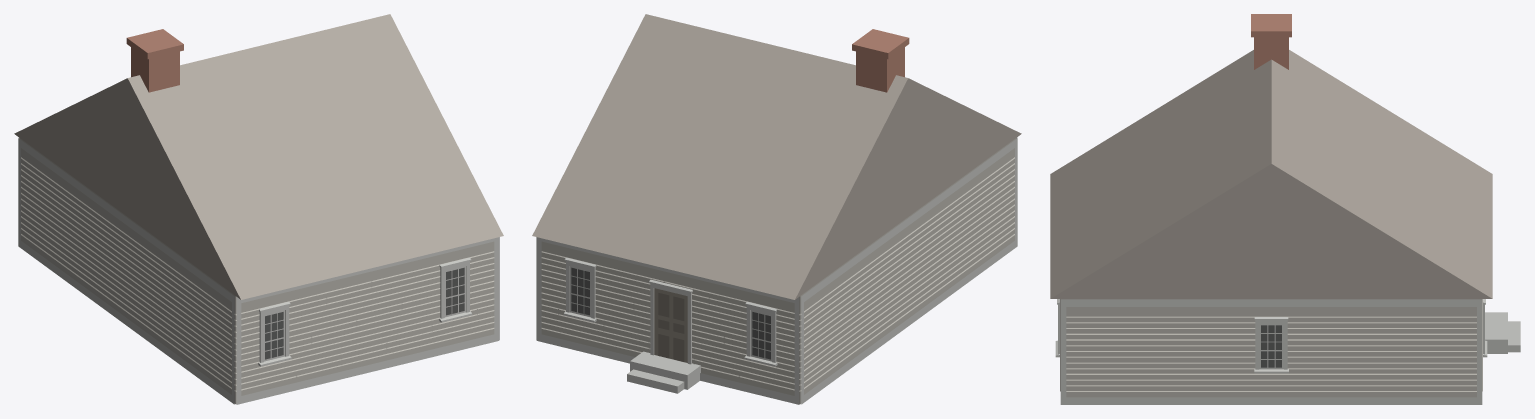
Rendered from recon_1835_north_d5_026__inferred_1835.glb.
3 renders of one model, left to right at view 1: azimuth 30°, elevation 25°; view 2: azimuth 150°, elevation 25°; view 3: azimuth 270°, elevation 25°, orthographic. The views are drawn at different scales.
Parts seen in each view (by area): view 1: recon_1835_north_d5_026__inferred_1835; view 2: recon_1835_north_d5_026__inferred_1835; view 3: recon_1835_north_d5_026__inferred_1835.
Part boxes in pixels (x1,y1,x2,y2): recon_1835_north_d5_026__inferred_1835: (14,14,503,404); recon_1835_north_d5_026__inferred_1835: (532,14,1021,404); recon_1835_north_d5_026__inferred_1835: (1050,14,1520,404).
Bounding box in the file's own units: 7.24 × 7.15 × 11.28.
